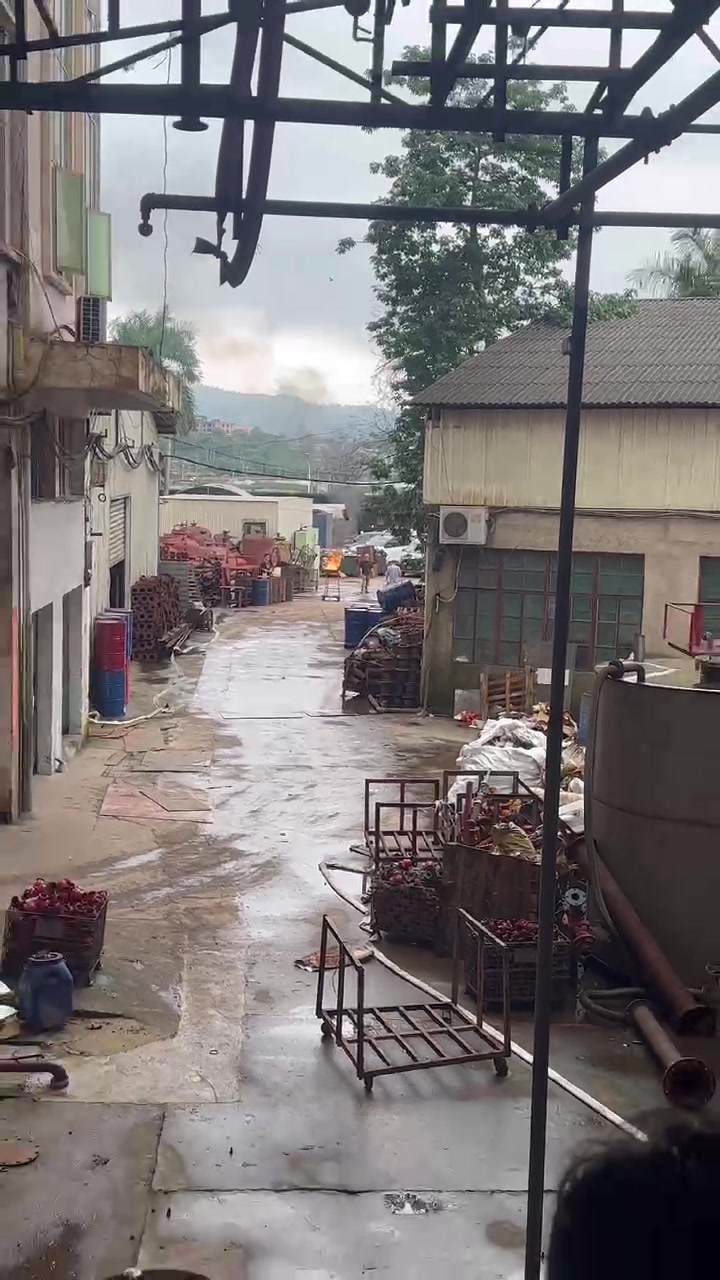fire: (322, 551, 342, 570)
